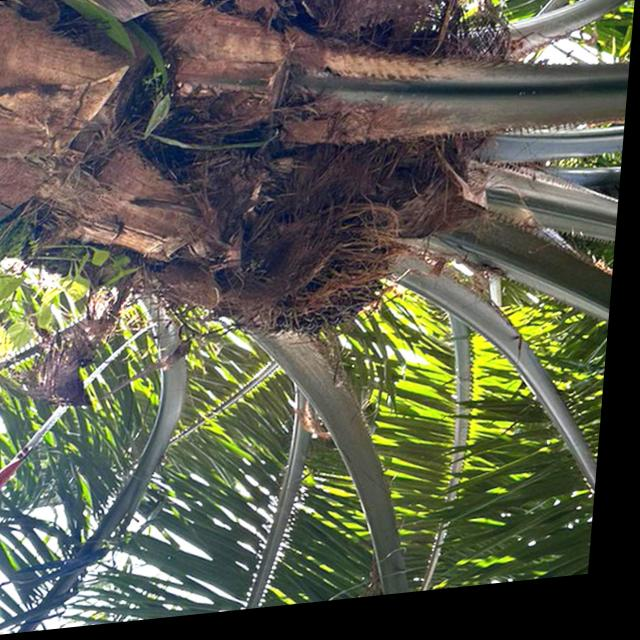unripe: (224, 186, 406, 362)
